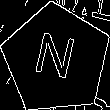N_S: (32, 30, 81, 88)
